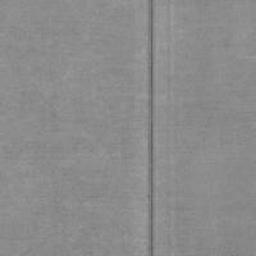Welding line: (148, 0, 155, 255)
